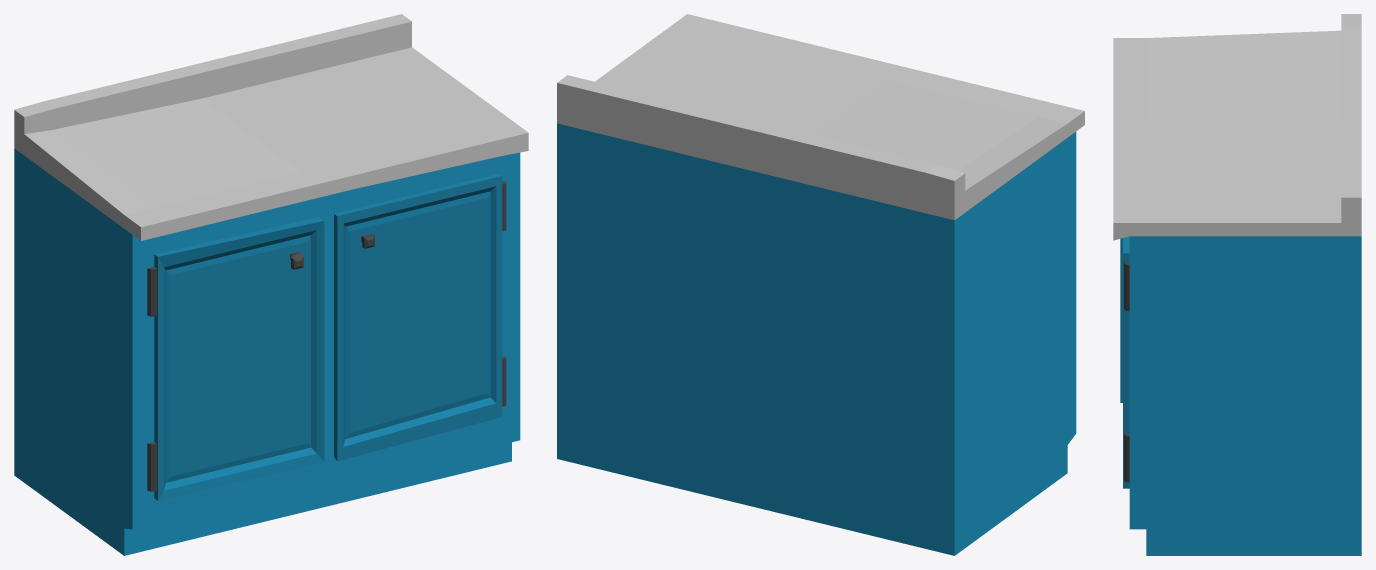
File: counter.fbx
The picture shows the model from 3 angles, left to right: view 1: azimuth 30°, elevation 25°; view 2: azimuth 150°, elevation 25°; view 3: azimuth 270°, elevation 25°; orthographic projection. The views are drawn at different scales.
Visible parts, largest first — view 1: Counter; view 2: Counter; view 3: Counter.
Boxes of the visible parts, x1,y1,x2,y2 form: Counter: (14,14,528,555); Counter: (557,14,1084,555); Counter: (1113,14,1361,555).
Size of the model in its own units: 200 by 113 by 181.
